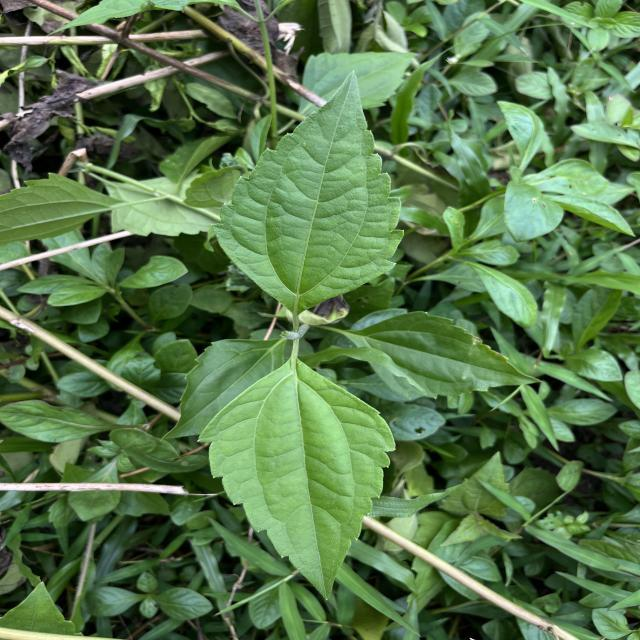Chromolaena odorata: (194, 353, 400, 605), (208, 68, 408, 314)
